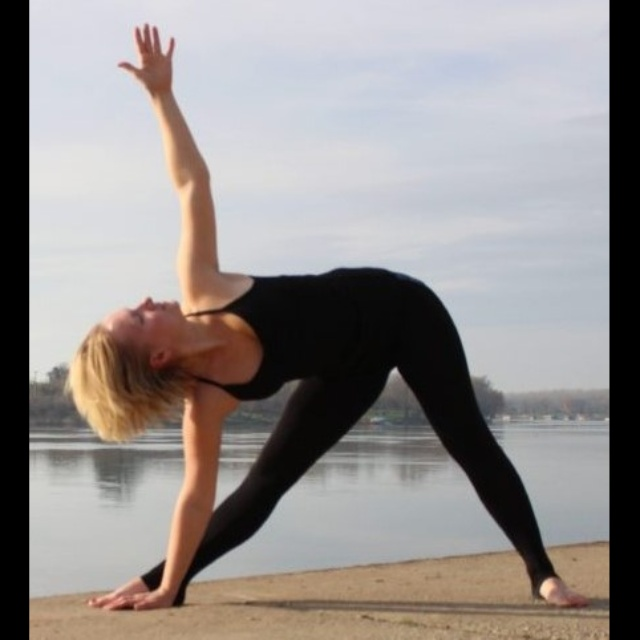Triangle_Pose: (57, 22, 579, 610)
